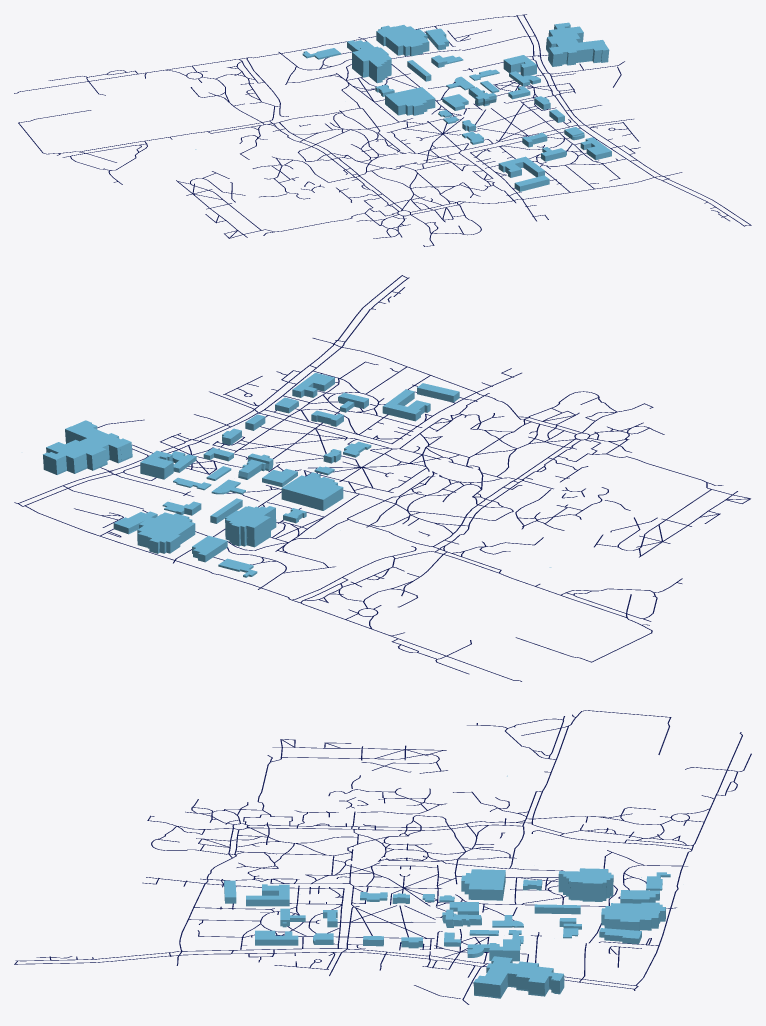
The model's file is myURImodel.glb.
3 renders of one model, top to bottom at view 1: azimuth 30°, elevation 25°; view 2: azimuth 150°, elevation 25°; view 3: azimuth 270°, elevation 25°, orthographic. The views are drawn at different scales.
Parts seen in each view (by area): view 1: map_7.osm_paths_footway, Gilbreth.001, CBLS, Chafee, Library, Quinn.001, Gilbreth, Independence; view 2: map_7.osm_paths_footway, Gilbreth.001, CBLS, Chafee, Library, Quinn.001, Gilbreth, Independence; view 3: map_7.osm_paths_footway, Gilbreth.001, Chafee, CBLS, Library, Quinn.001, Independence, Gilbreth, Tyler.001, Lippitt, Research.
Boxes of the visible parts, left/top/right/bottom form: map_7.osm_paths_footway: left=14, top=14, right=751, bottom=246; Gilbreth.001: left=546, top=22, right=609, bottom=66; CBLS: left=376, top=25, right=429, bottom=56; Chafee: left=352, top=38, right=517, bottom=83; Library: left=195, top=87, right=435, bottom=149; Quinn.001: left=498, top=156, right=544, bottom=177; Gilbreth: left=503, top=55, right=536, bottom=76; Independence: left=580, top=137, right=611, bottom=160; map_7.osm_paths_footway: left=14, top=275, right=750, bottom=681; Gilbreth.001: left=43, top=420, right=132, bottom=474; CBLS: left=137, top=512, right=195, bottom=553; Chafee: left=81, top=492, right=276, bottom=547; Library: left=281, top=475, right=551, bottom=567; Quinn.001: left=382, top=389, right=430, bottom=421; Gilbreth: left=140, top=450, right=173, bottom=479; Independence: left=292, top=372, right=334, bottom=397; map_7.osm_paths_footway: left=14, top=710, right=751, bottom=1004; Gilbreth.001: left=473, top=956, right=564, bottom=998; Chafee: left=558, top=868, right=613, bottom=901; CBLS: left=601, top=902, right=665, bottom=930; Library: left=461, top=775, right=507, bottom=900; Quinn.001: left=246, top=884, right=289, bottom=906; Independence: left=255, top=930, right=298, bottom=945; Gilbreth: left=489, top=939, right=520, bottom=961; Tyler.001: left=599, top=928, right=641, bottom=944; Lippitt: left=442, top=909, right=481, bottom=927; Research: left=620, top=877, right=659, bottom=903.
Bounding box in the file's own units: 2930 × 83.94 × 3029.
